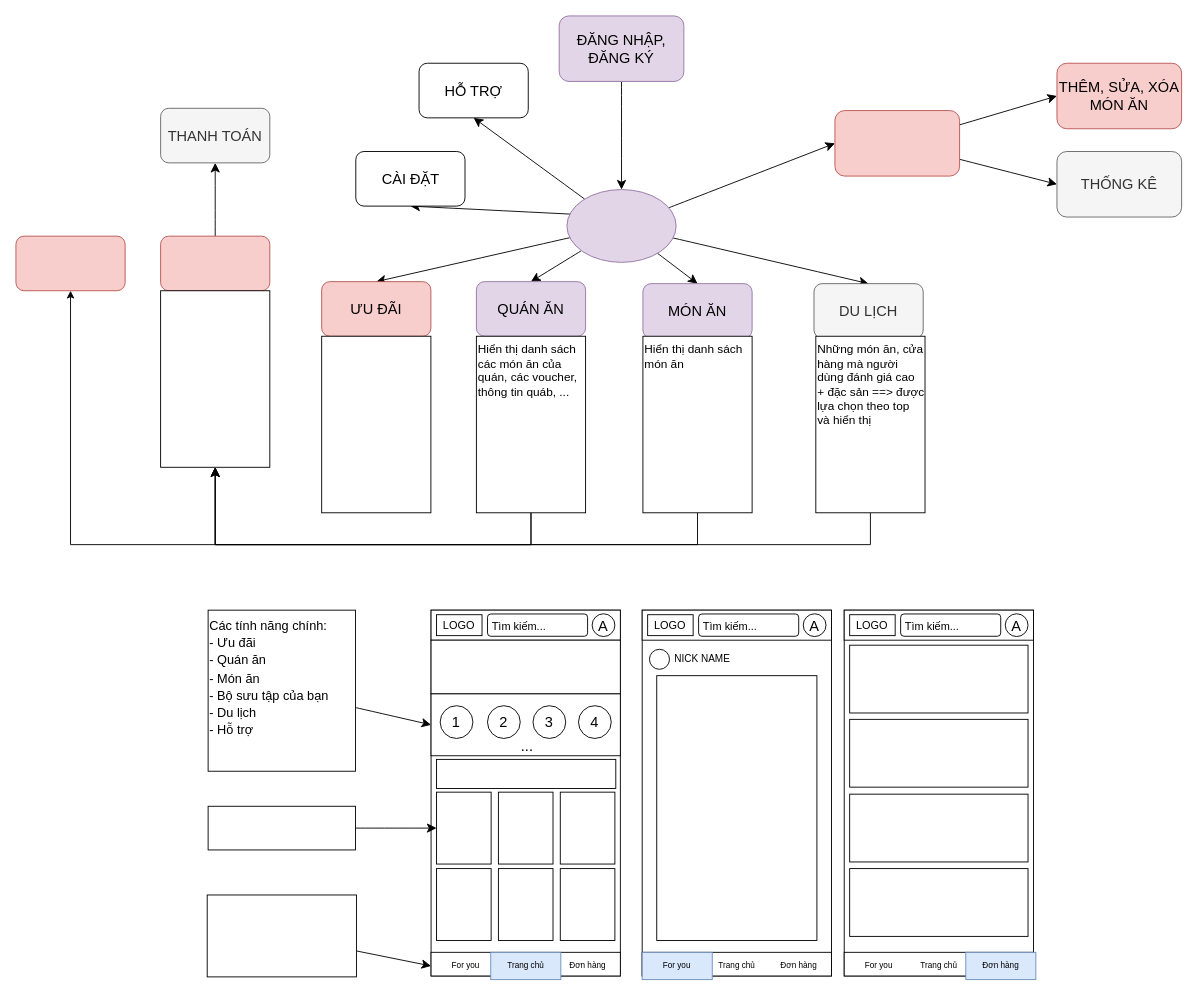
Image size: 1198x996. Some labels were removed from this diagram. The shapes that lost their labels are listed below. From the top down, each one's centre as x and y in pixels, then its label:
At (897,143): "THIẾT LẬP QUÁN ĂN".
At (621,225): "GIAO DIỆN CHÍNH".
At (70,263): "CHI TIẾT QUÁN ĂN".
At (215,263): "CHI TIẾT MÓN ĂN".
At (215,378): "Tên, mô tả, giá tiền, đánh giá, bình luận, đặt món,...".
At (376,424): "Hiển thị các ưu đãi của các shop".
At (525,666): "BANNER".
At (526,773): "TÌM KIẾM NỔI BẬT".
At (281,827): "Chưa nghĩ ra".
At (736,807): "image list or video".
At (281,935): "Dòng thời gian chung để hiển thị các hình ảnh món ăn, review của người dùng".
